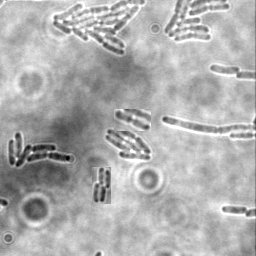Dividing: (161, 114, 255, 133), (114, 109, 151, 131), (221, 204, 248, 215)
Microcolony: (51, 1, 147, 56), (162, 1, 231, 44), (8, 130, 72, 167), (106, 124, 153, 160), (92, 167, 111, 204), (208, 63, 240, 74)
